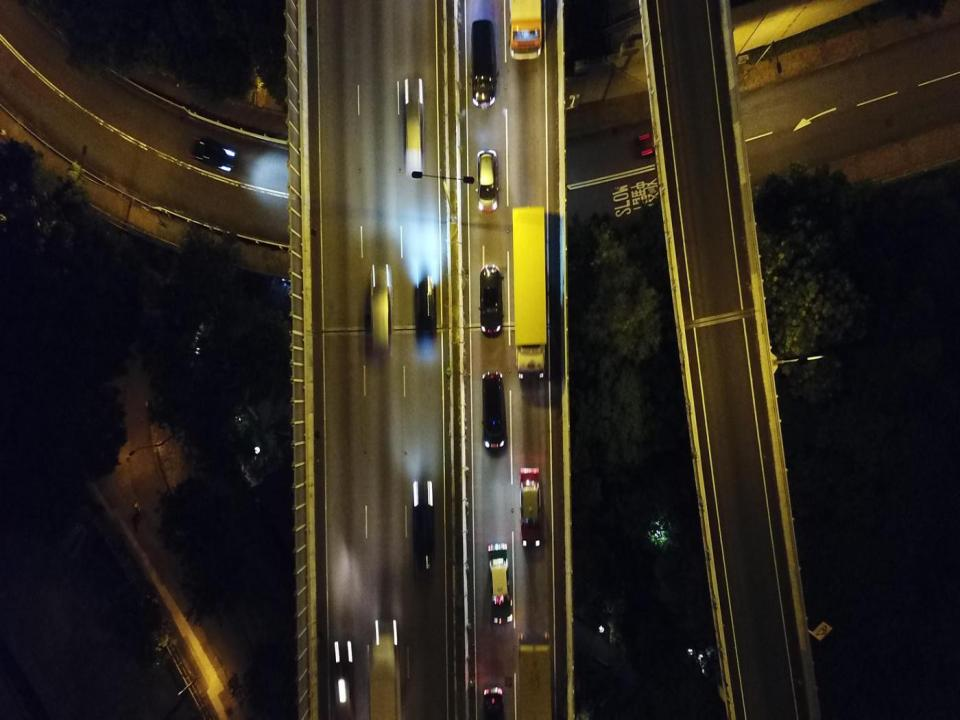car: (411, 481, 437, 591), (368, 266, 393, 363), (481, 370, 508, 451), (488, 542, 514, 625), (518, 465, 544, 548), (186, 134, 237, 176), (478, 264, 503, 338), (331, 648, 357, 717), (403, 100, 425, 180), (475, 149, 501, 212), (415, 275, 437, 340), (483, 686, 505, 719)
truck: (512, 207, 548, 380), (367, 631, 410, 719)
van: (470, 19, 500, 108)
